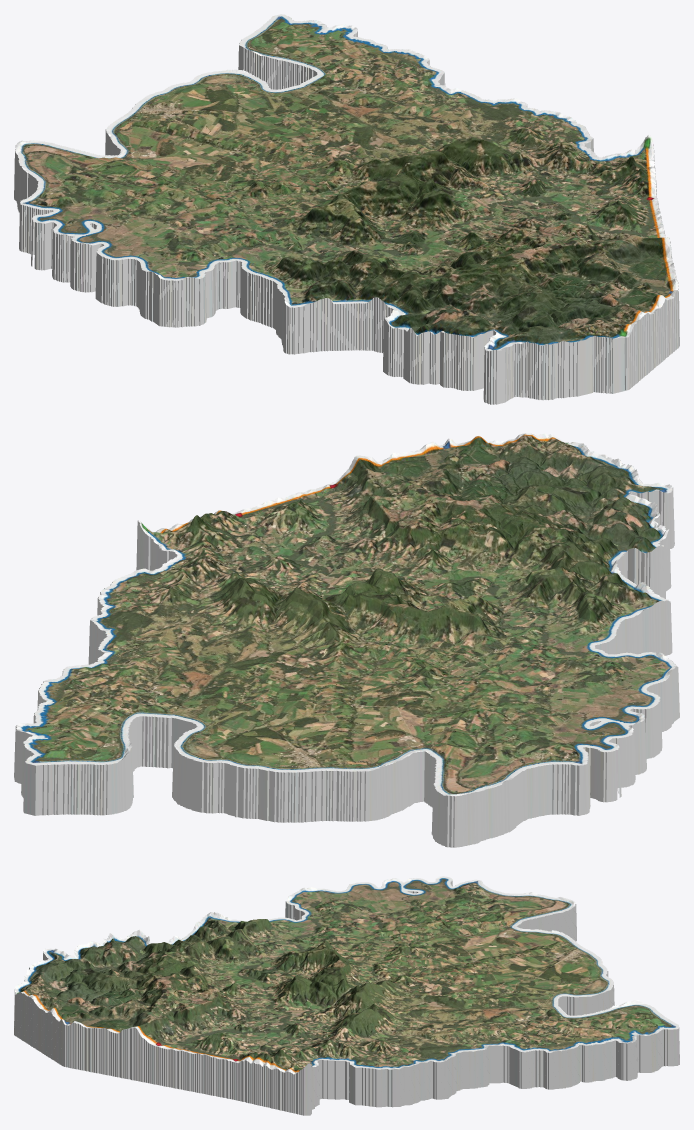
3 renders of one model, top to bottom at view 1: azimuth 30°, elevation 25°; view 2: azimuth 150°, elevation 25°; view 3: azimuth 270°, elevation 25°, orthographic. The views are drawn at different scales.
Bounding box in the file's own units: 1 × 0.1247 × 1.38.
1 material, 1 textured.
